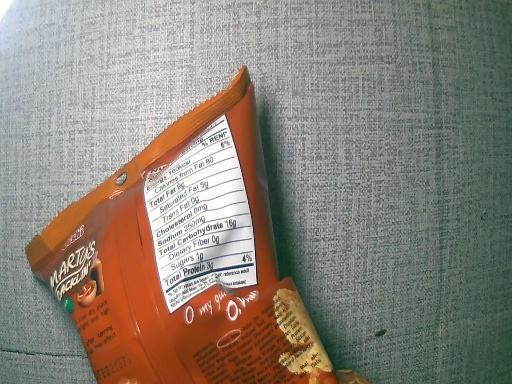plastic: (26, 75, 319, 384)
